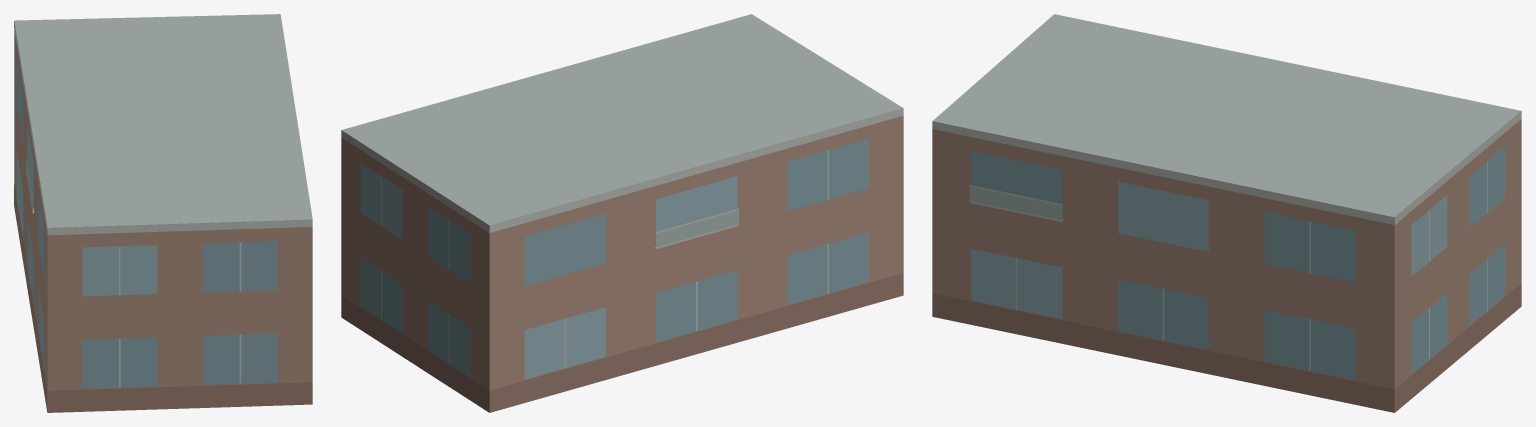
The model's file is survey-upis-32843585.glb.
The picture shows the model from 3 angles, left to right: view 1: azimuth 30°, elevation 25°; view 2: azimuth 150°, elevation 25°; view 3: azimuth 270°, elevation 25°; orthographic projection. The views are drawn at different scales.
Visible parts, largest first — view 1: survey-upis-32843585.tmp; view 2: survey-upis-32843585.tmp; view 3: survey-upis-32843585.tmp.
Part boxes in pixels (x1,y1,x2,y2): survey-upis-32843585.tmp: (14, 14, 312, 412); survey-upis-32843585.tmp: (341, 14, 903, 412); survey-upis-32843585.tmp: (932, 14, 1521, 412).
Size of the model in its own units: 13.62 by 6.1 by 16.67.
